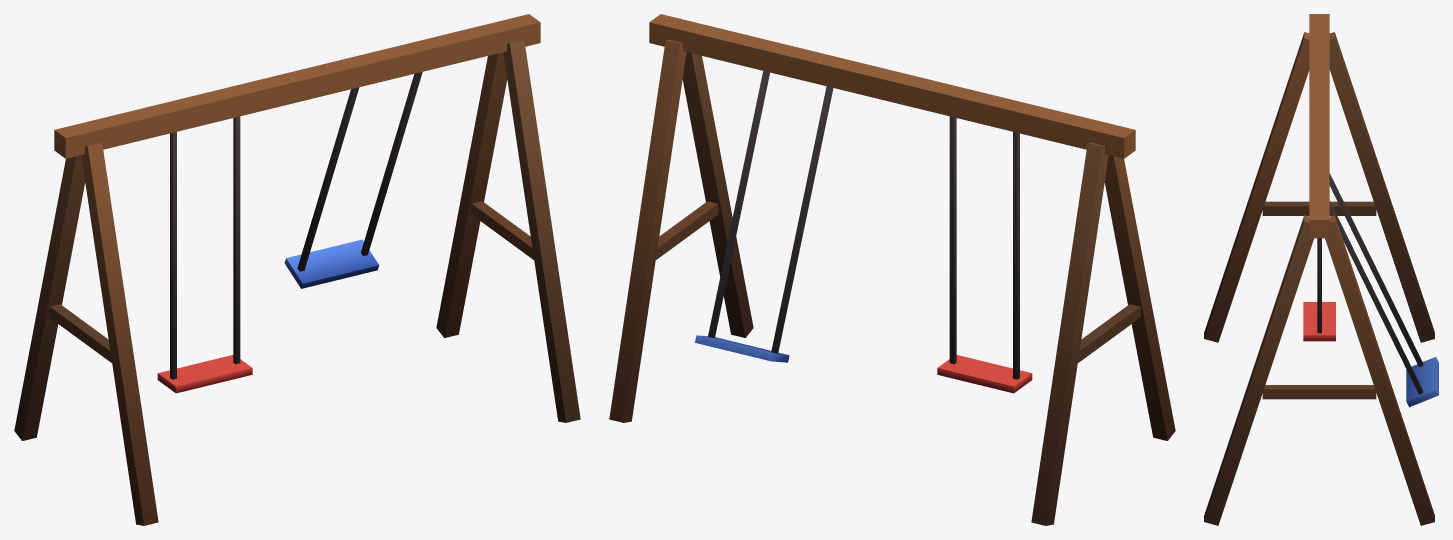
Rendered from PlayGround_Kit_Swing_Set.fbx.
3 renders of one model, left to right at view 1: azimuth 30°, elevation 25°; view 2: azimuth 150°, elevation 25°; view 3: azimuth 270°, elevation 25°, orthographic. The views are drawn at different scales.
Parts seen in each view (by area): view 1: PlayGround_Kit_Swing_Set; view 2: PlayGround_Kit_Swing_Set; view 3: PlayGround_Kit_Swing_Set.
Part boxes in pixels (x1,y1,x2,y2): PlayGround_Kit_Swing_Set: (14,14,580,525); PlayGround_Kit_Swing_Set: (609,14,1175,525); PlayGround_Kit_Swing_Set: (1204,14,1438,525).
Size of the model in its own units: 3.6 by 2.56 by 1.73.
